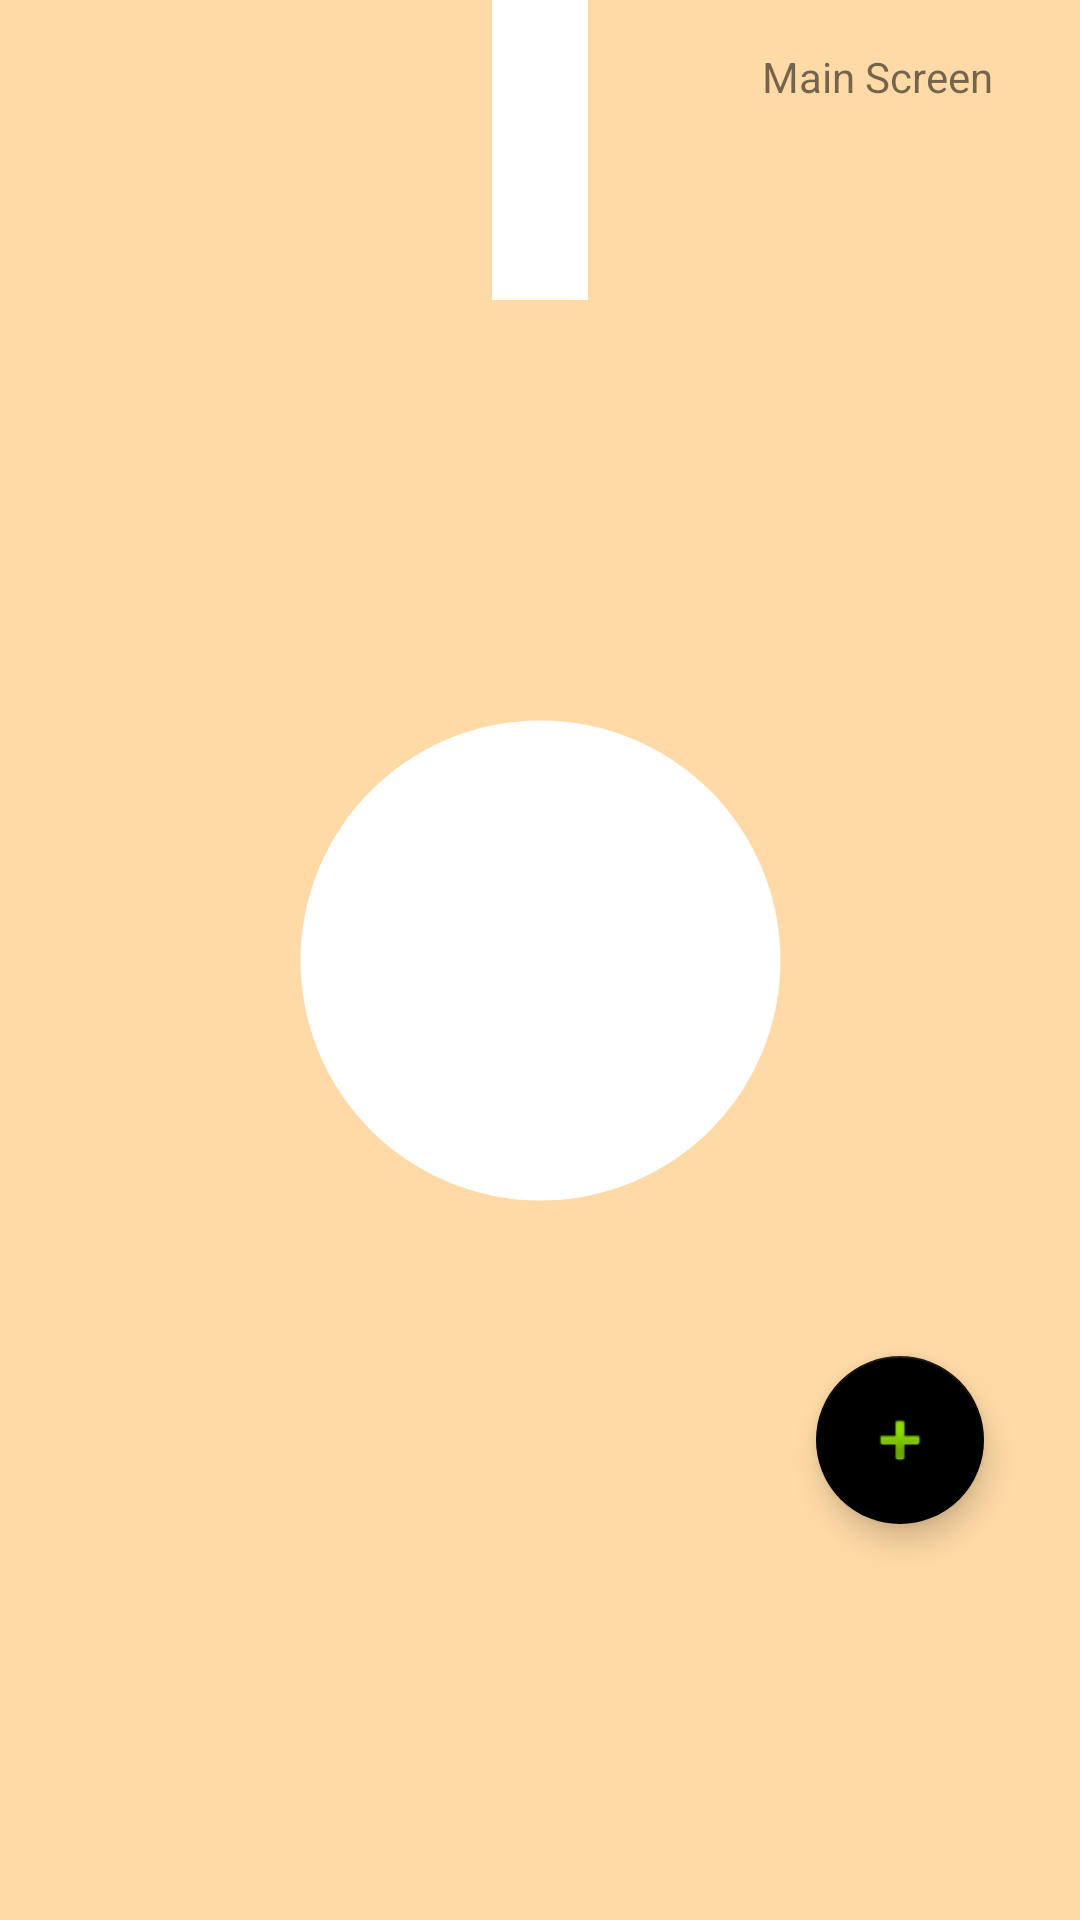

Icon bounding boxes for this 1080px×1920px phone screenshot, format Rect(x1, y1, x2, y2):
add: Rect(816, 1356, 984, 1524)
